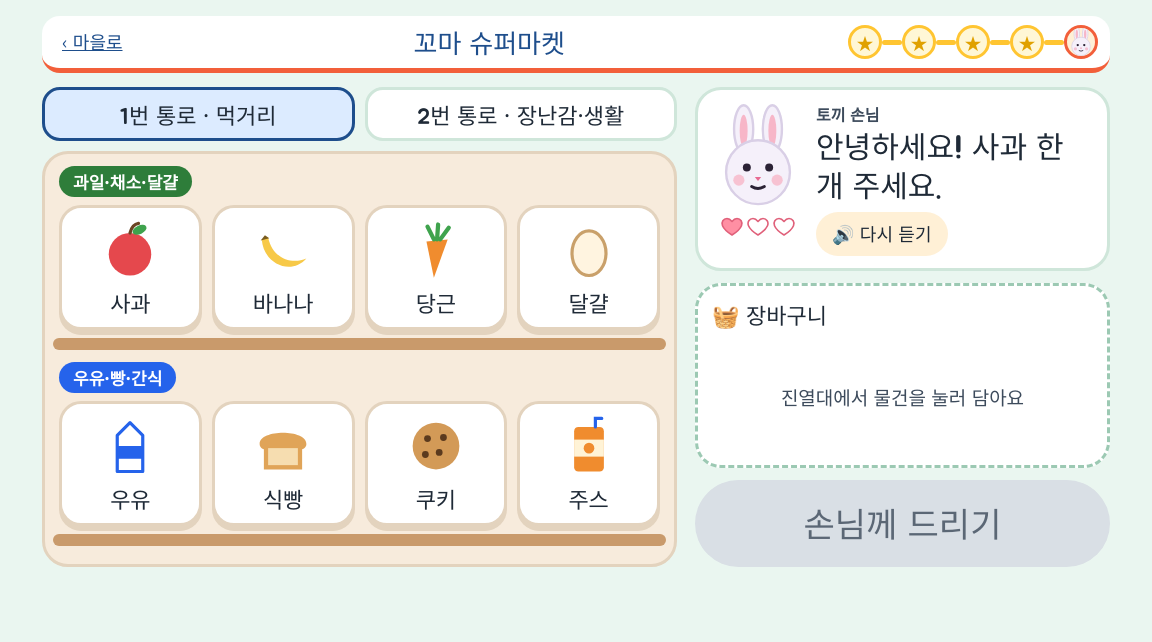
Test: 다섯 번 하면 끝 화면
Earlier steps of the test are not shown.
Click the button with aria-label "사과 담기": [130, 268] box [59,205,202,330]
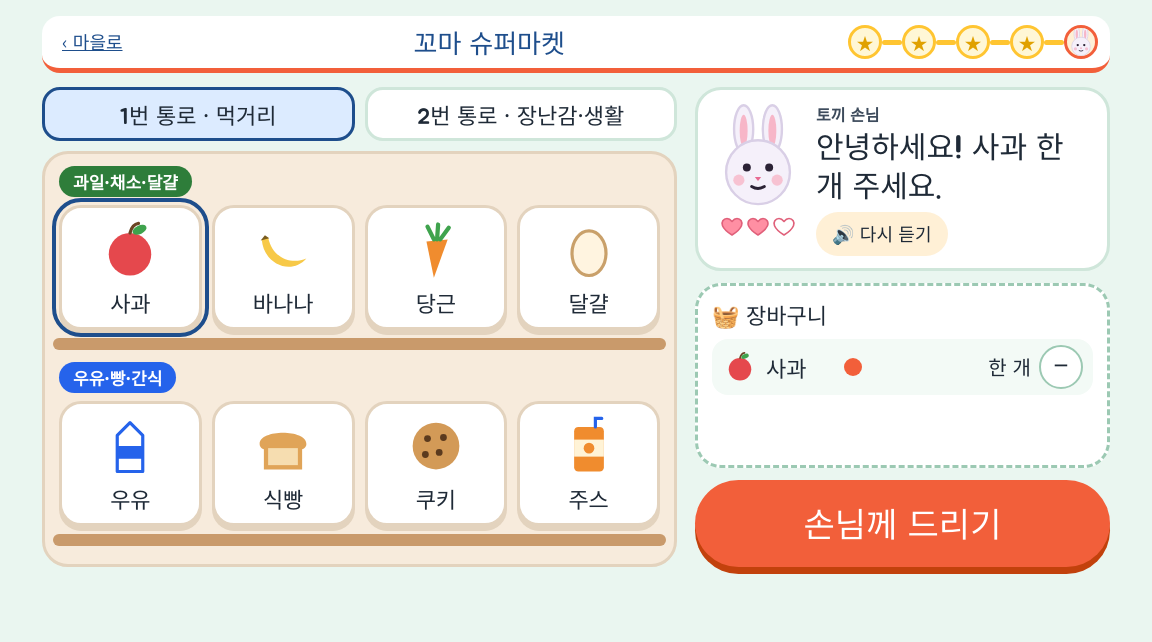
Click the button "손님께 드리기": [902, 524] box [695,480,1110,567]
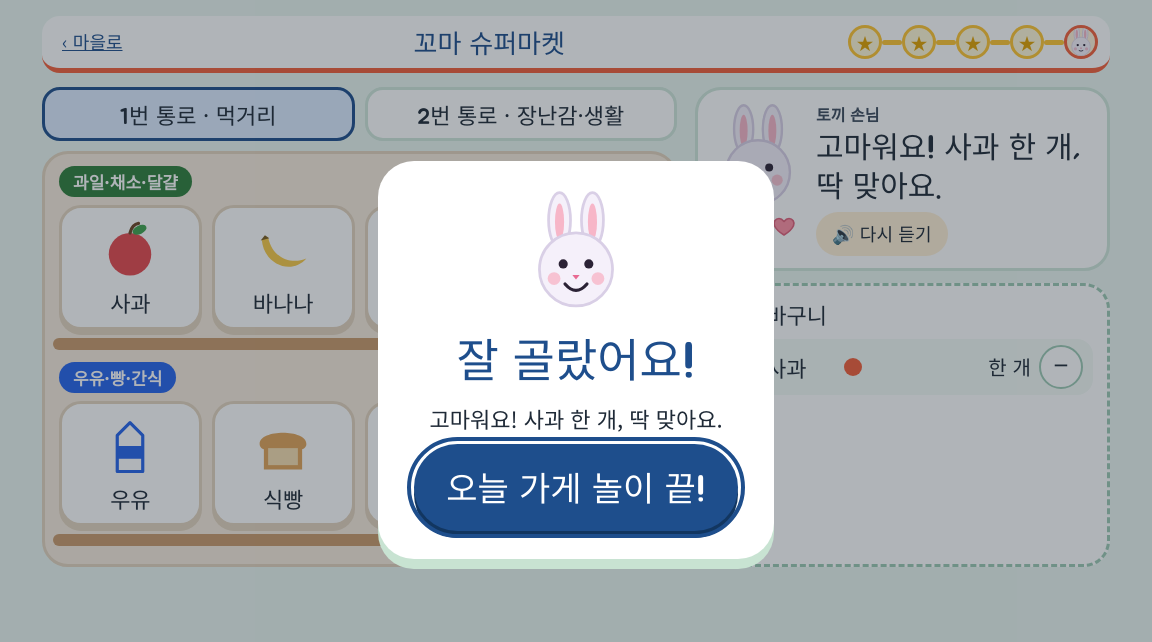
Click the button "오늘 가게 놀이 끝!": [576, 487] box [414,444,738,531]
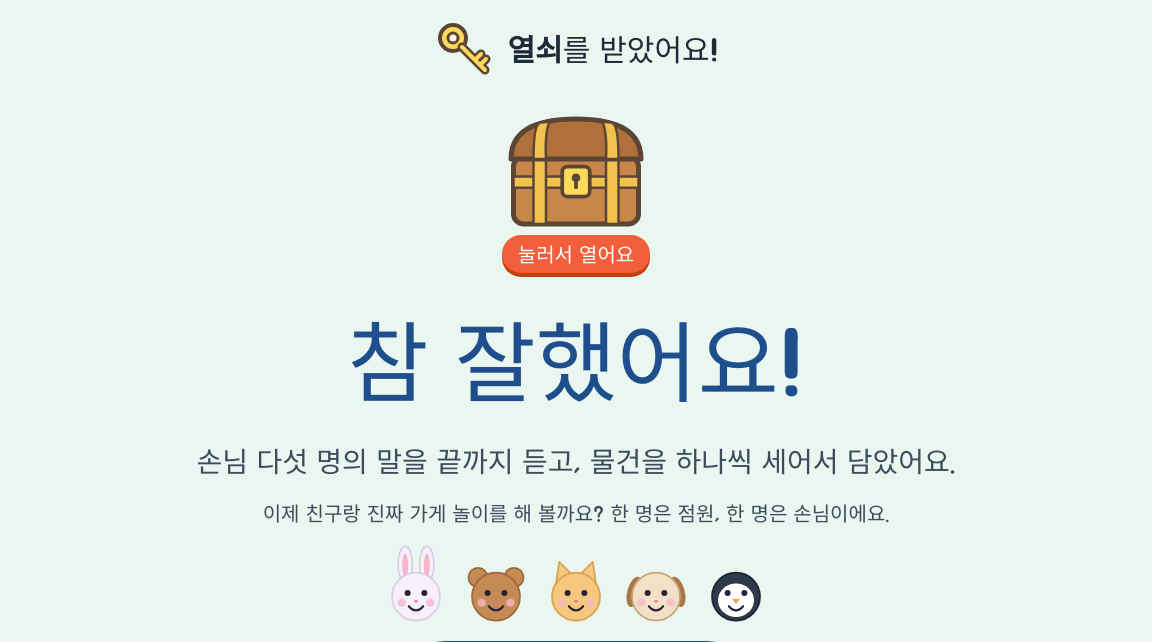
Result: the heading "참 잘했어요!" is shown at [347,293,805,424]
